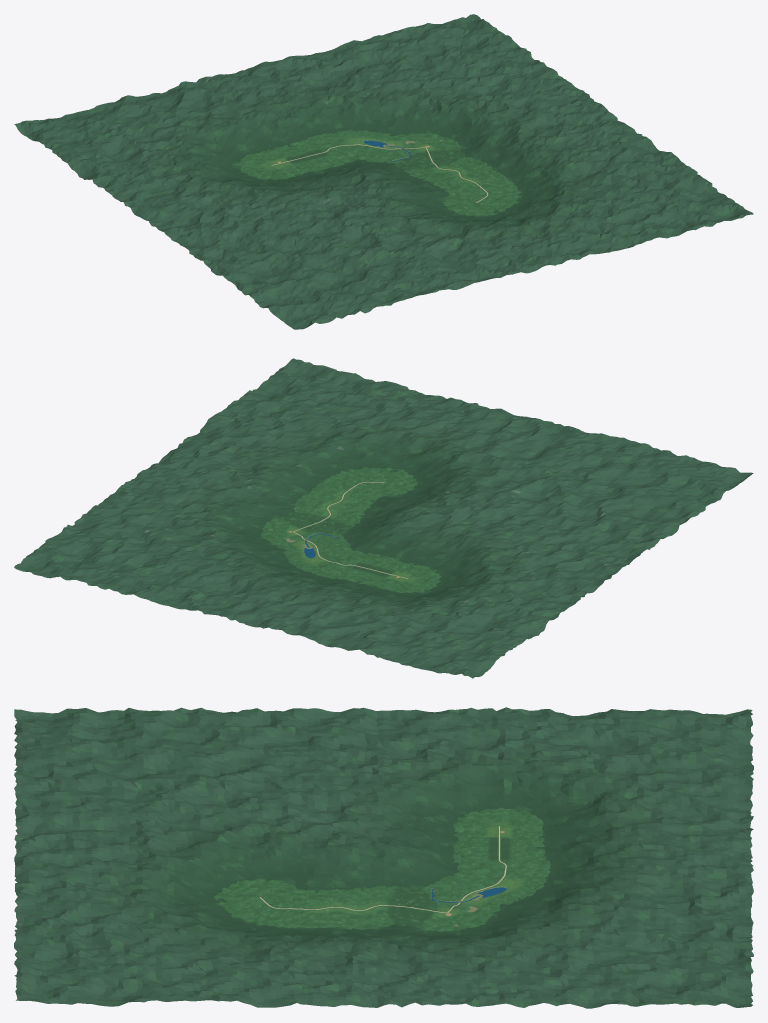
Rendered from finland.glb.
3 renders of one model, top to bottom at view 1: azimuth 30°, elevation 25°; view 2: azimuth 150°, elevation 25°; view 3: azimuth 270°, elevation 25°, orthographic. The views are drawn at different scales.
Parts seen in each view (by area): view 1: SM_Finland_Backdrop_0; view 2: SM_Finland_Backdrop_0; view 3: SM_Finland_Backdrop_0, SM_Finland_Tile_5_8, SM_Finland_Tile_5_7, SM_Finland_Tile_4_7, SM_Finland_Tile_3_8, SM_Finland_Tile_6_6, SM_Finland_Tile_7_1, SM_Finland_Tile_7_6, SM_Finland_Tile_2_8, SM_Finland_Tile_3_7, SM_Finland_Tile_4_8, SM_Finland_Tile_7_3 (+11 smaller).
Boxes of the visible parts, x1,y1,x2,y2 form: SM_Finland_Backdrop_0: (14,14,753,329); SM_Finland_Backdrop_0: (14,358,753,678); SM_Finland_Backdrop_0: (14,707,753,1008); SM_Finland_Tile_5_8: (499,871,535,888); SM_Finland_Tile_5_7: (463,871,499,888); SM_Finland_Tile_4_7: (463,856,499,872); SM_Finland_Tile_3_8: (499,841,535,856); SM_Finland_Tile_6_6: (426,887,463,903); SM_Finland_Tile_7_1: (246,900,283,915); SM_Finland_Tile_7_6: (427,902,463,918); SM_Finland_Tile_2_8: (499,826,535,841); SM_Finland_Tile_3_7: (463,841,499,856); SM_Finland_Tile_4_8: (499,856,535,871); SM_Finland_Tile_7_3: (318,900,355,916).
Size of the model in its own units: 4976 by 157 by 5246.
